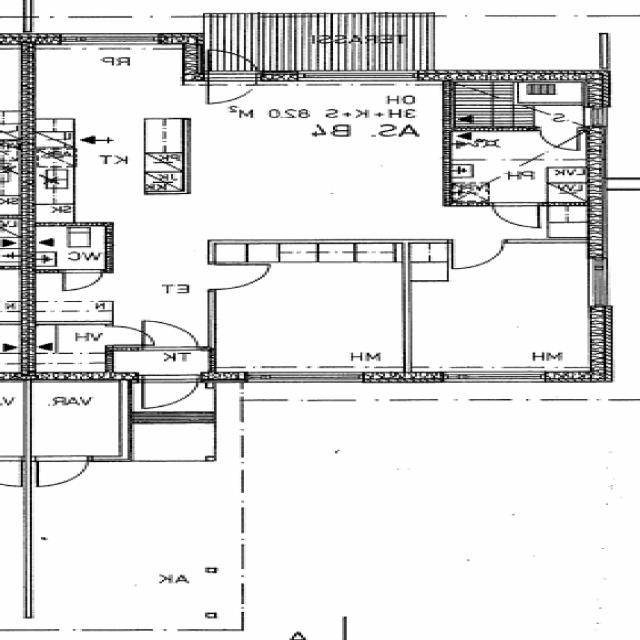door: (138, 372, 200, 413), (142, 320, 197, 350), (36, 457, 88, 488), (208, 70, 256, 103), (208, 47, 256, 80), (207, 264, 266, 290), (452, 240, 503, 268), (495, 202, 538, 228), (540, 127, 579, 149), (62, 270, 100, 292), (104, 327, 149, 345)
